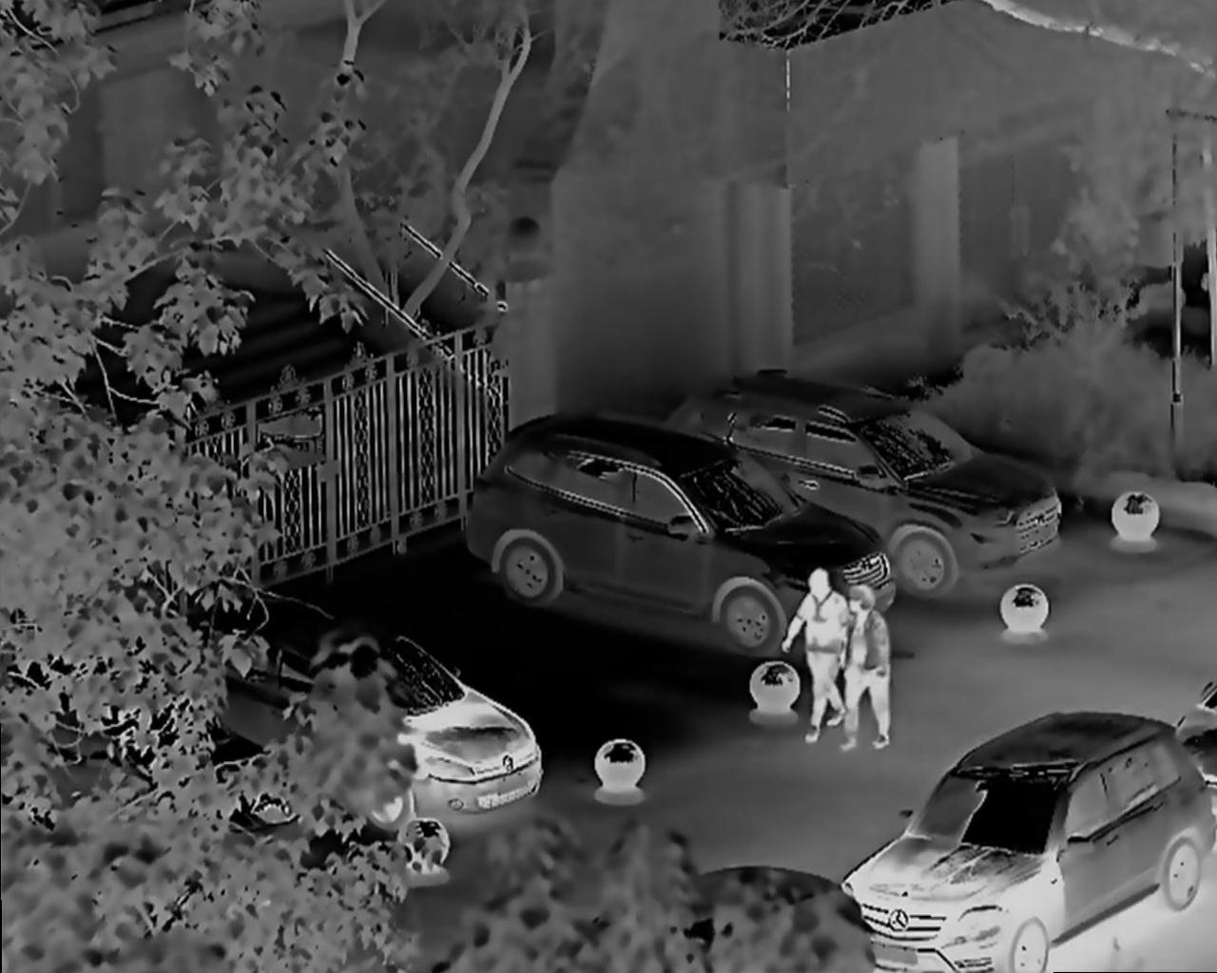person: (837, 588, 918, 758), (784, 556, 835, 756)
